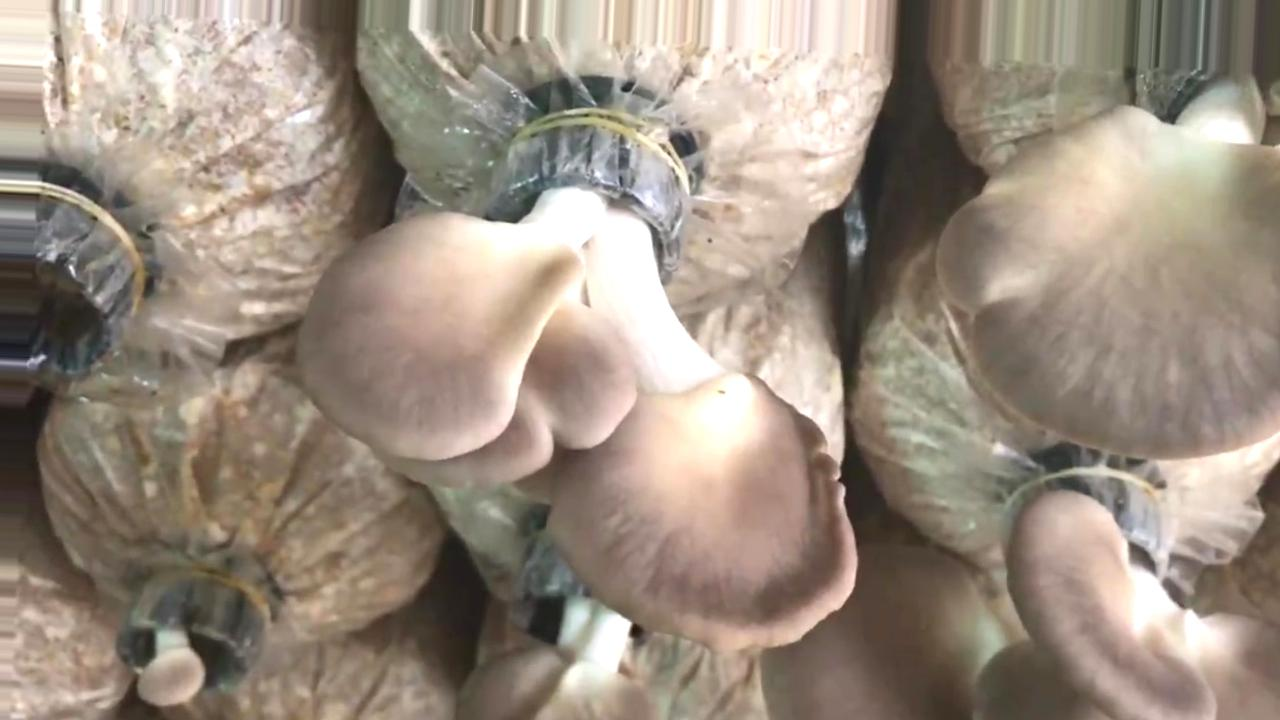nam: (302, 121, 853, 643), (763, 455, 1280, 716), (939, 77, 1280, 456), (459, 537, 655, 720), (110, 577, 264, 703)
